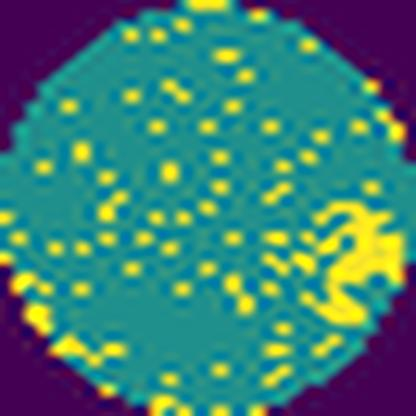Loc: (262, 200, 404, 326)
